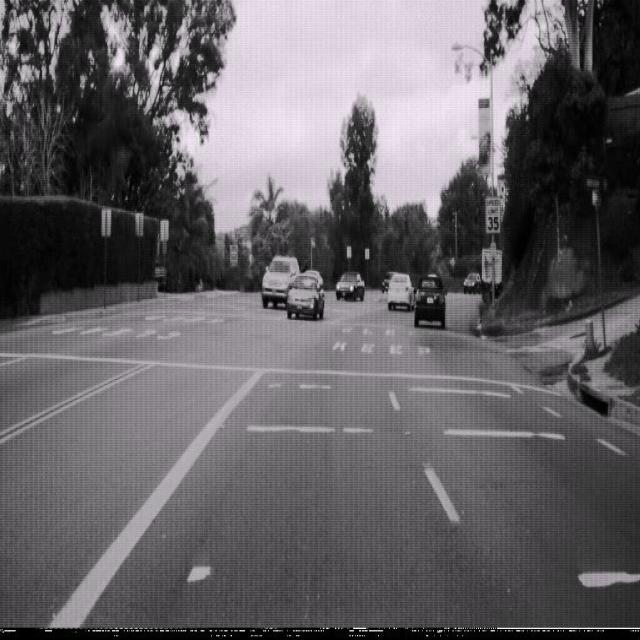speedLimit35: (484, 195, 502, 234)
